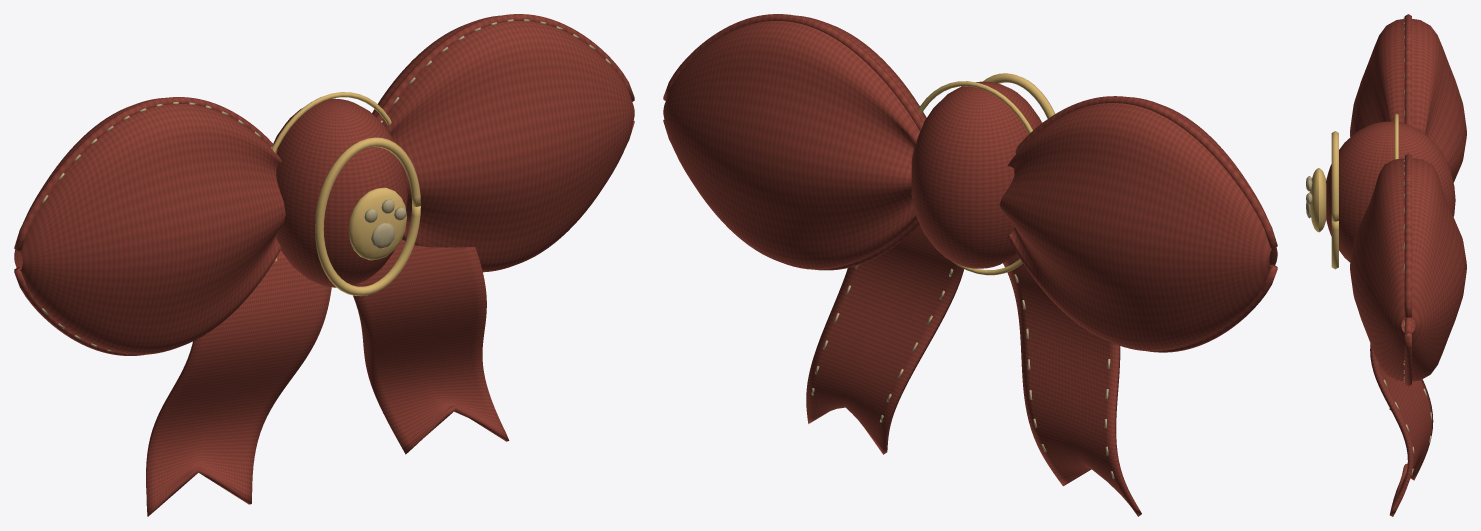
Rendered from coral-bow.glb.
3 renders of one model, left to right at view 1: azimuth 30°, elevation 25°; view 2: azimuth 150°, elevation 25°; view 3: azimuth 270°, elevation 25°, orthographic. The views are drawn at different scales.
Visible parts, largest first — view 1: coral-bow / Woven coral-bow, coral-bow / Brushed warm brass, coral-bow / Ivory cotton stitching; view 2: coral-bow / Woven coral-bow, coral-bow / Brushed warm brass, coral-bow / Ivory cotton stitching; view 3: coral-bow / Woven coral-bow, coral-bow / Brushed warm brass, coral-bow / Ivory cotton stitching.
Boxes of the visible parts, box(x1,y1,x2,y2) form: coral-bow / Woven coral-bow: box(14, 14, 634, 516); coral-bow / Brushed warm brass: box(272, 92, 420, 296); coral-bow / Ivory cotton stitching: box(41, 19, 611, 354); coral-bow / Woven coral-bow: box(663, 14, 1277, 516); coral-bow / Brushed warm brass: box(918, 73, 1055, 275); coral-bow / Ivory cotton stitching: box(811, 122, 1114, 478); coral-bow / Woven coral-bow: box(1326, 14, 1466, 516); coral-bow / Brushed warm brass: box(1309, 113, 1398, 269); coral-bow / Ivory cotton stitching: box(1306, 17, 1432, 475).
Bounding box in the file's own units: 0.2554 × 0.1648 × 0.0682.
Materials: 3 (2 with a texture image).
